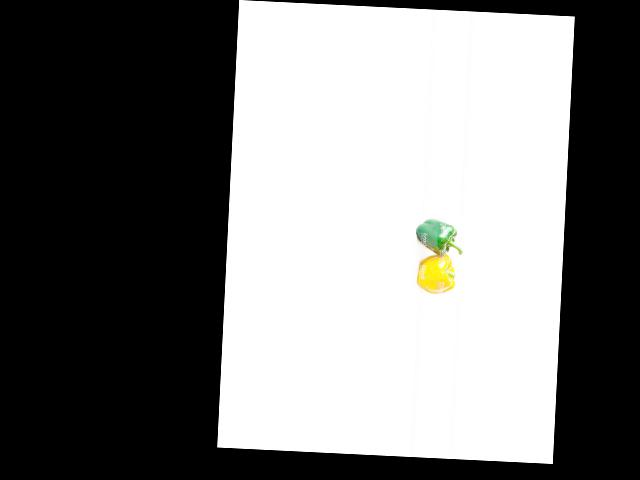bell_pepper: (409, 214, 460, 255)
